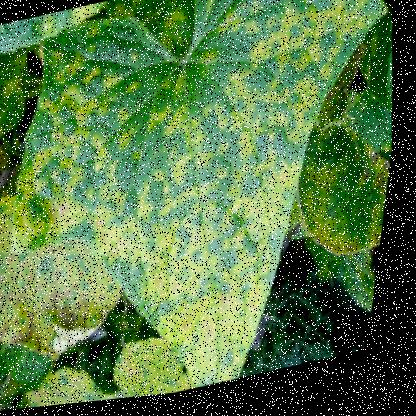DownyMildew: (104, 124, 346, 403), (4, 52, 199, 261), (190, 0, 387, 142), (99, 93, 218, 264), (8, 240, 122, 345), (0, 208, 25, 336), (41, 374, 103, 408)
